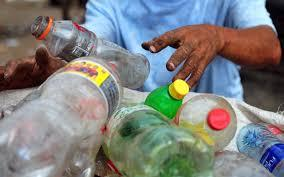Plastic bottle: (4, 64, 118, 174), (32, 10, 155, 84), (103, 93, 189, 177), (200, 113, 276, 177), (173, 91, 241, 148), (143, 66, 194, 111)
